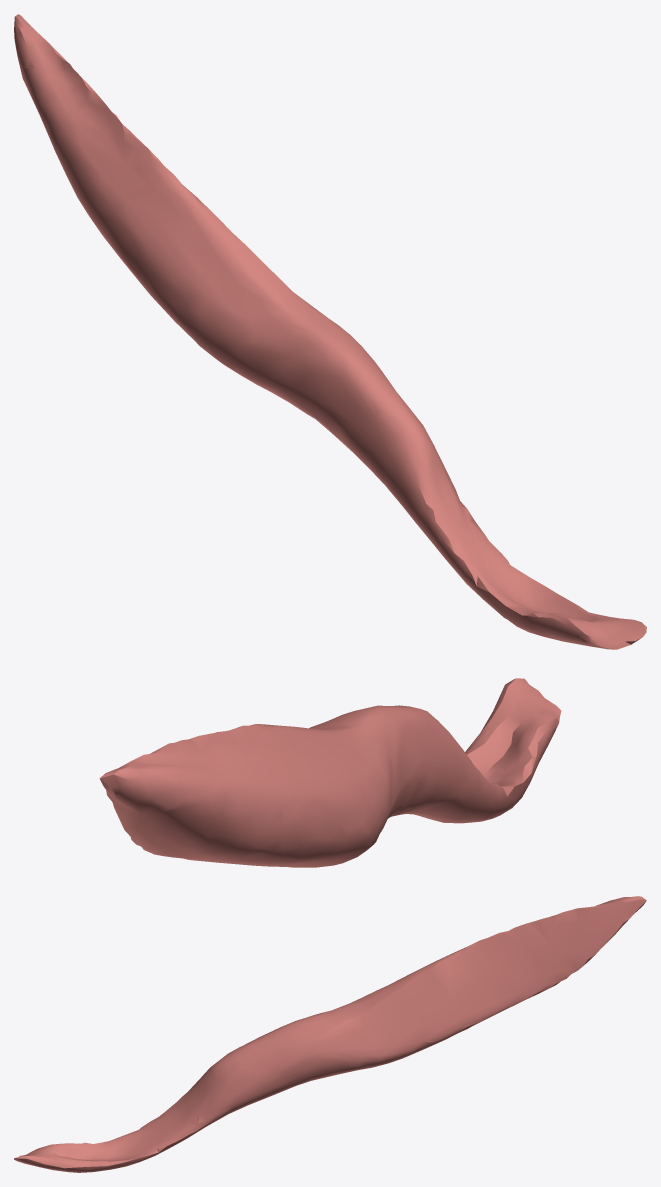
Rendered from fma45974_mm1741.glb.
3 renders of one model, top to bottom at view 1: azimuth 30°, elevation 25°; view 2: azimuth 150°, elevation 25°; view 3: azimuth 270°, elevation 25°, orthographic. The views are drawn at different scales.
Visible parts, largest first — view 1: FMA45974_MM1741; view 2: FMA45974_MM1741; view 3: FMA45974_MM1741.
Boxes of the visible parts, box(x1,y1,x2,y2) form: FMA45974_MM1741: box(14, 14, 646, 649); FMA45974_MM1741: box(99, 678, 561, 867); FMA45974_MM1741: box(14, 896, 646, 1172).
Bounding box in the file's own units: 0.0217 × 0.0372 × 0.0918.
